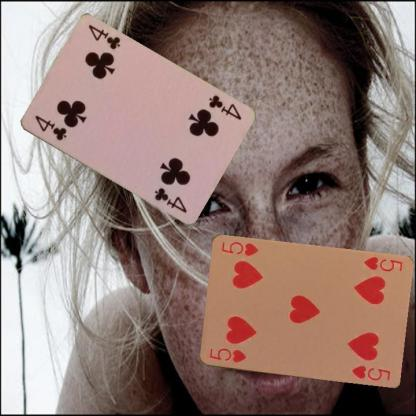4c: (205, 92, 243, 121), (31, 112, 67, 142)
5h: (360, 254, 404, 274), (206, 344, 248, 364)
